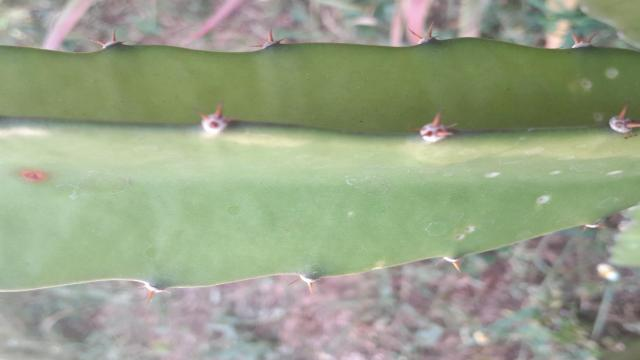stemcanker: (4, 161, 62, 188)
